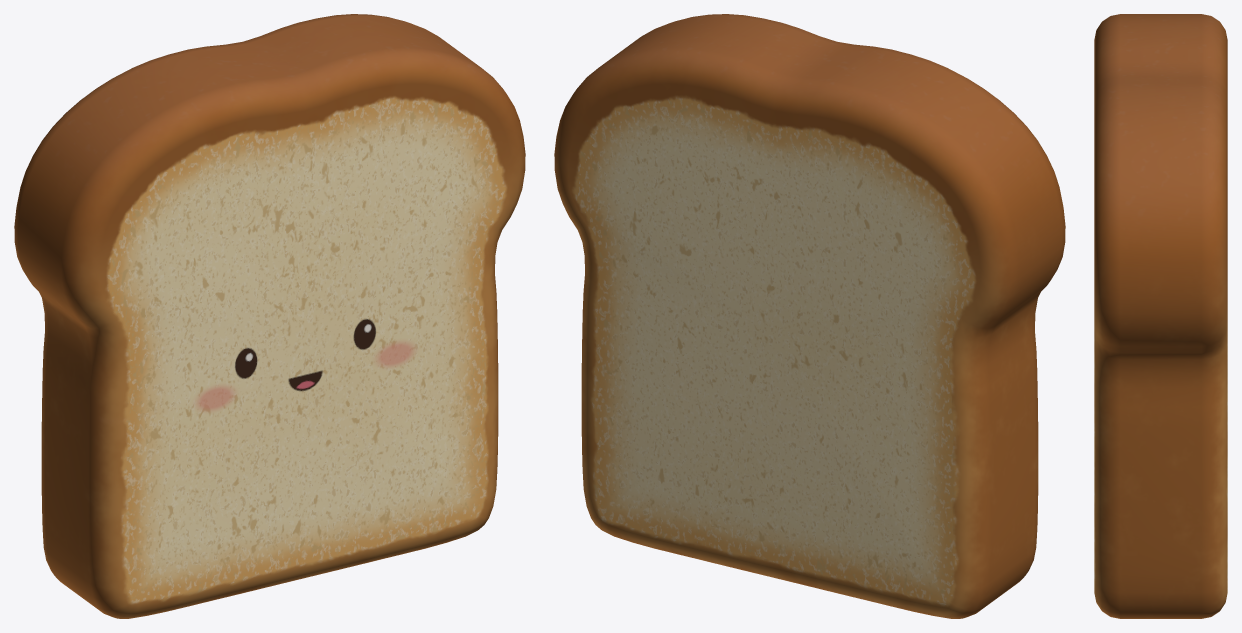
Rendered from ToastSlice.fbx.
The picture shows the model from 3 angles, left to right: view 1: azimuth 30°, elevation 25°; view 2: azimuth 150°, elevation 25°; view 3: azimuth 270°, elevation 25°; orthographic projection. The views are drawn at different scales.
Parts seen in each view (by area): view 1: ToastSlice_Body; view 2: ToastSlice_Body; view 3: ToastSlice_Body.
Boxes of the visible parts, x1=… form: ToastSlice_Body: x1=14, y1=14, x2=525, y2=618; ToastSlice_Body: x1=554, y1=14, x2=1065, y2=618; ToastSlice_Body: x1=1094, y1=14, x2=1227, y2=618.
Bounding box in the file's own units: 0.4125 × 0.4347 × 0.1102.
Materials: 1 (1 with a texture image).
